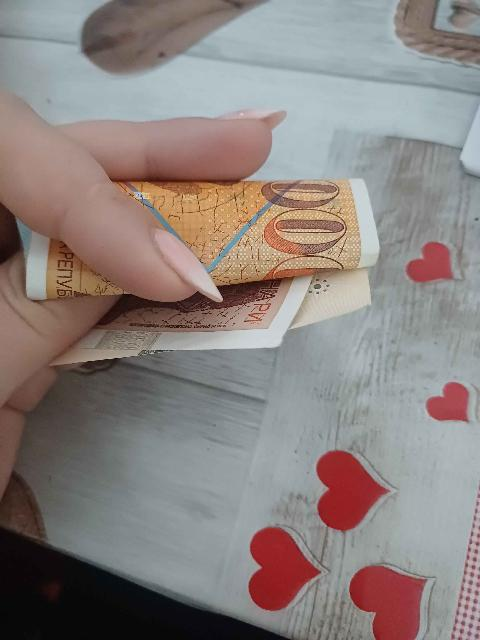1000_note: (84, 173, 370, 369)
